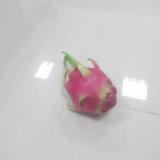pitaya: (60, 51, 117, 119)
